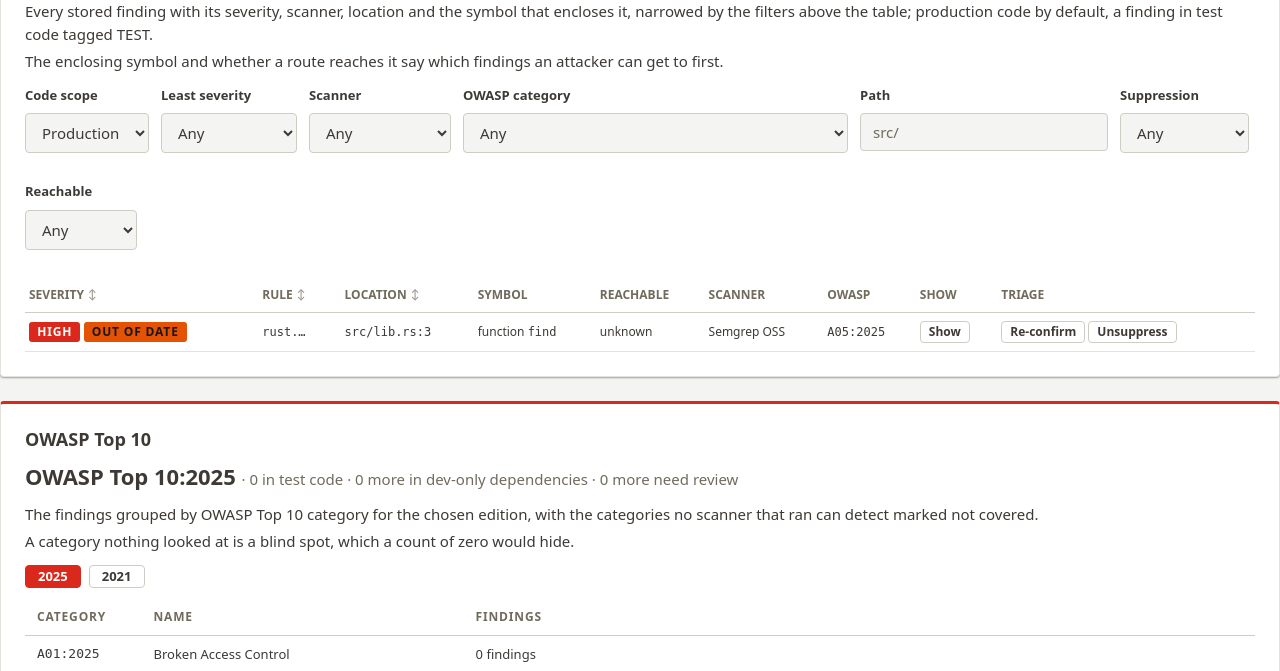
evidence (FR-SC-32, S-818) › reads an out-of-date verdict as active, naming the changed symbol, with Re-confirm beside Unsuppress
(page scrolled)
Step 1. Click the button with aria-label "Show rust.lang.security.formatted-sql" → (945, 332), box [920,321,970,343]
(page scrolled)
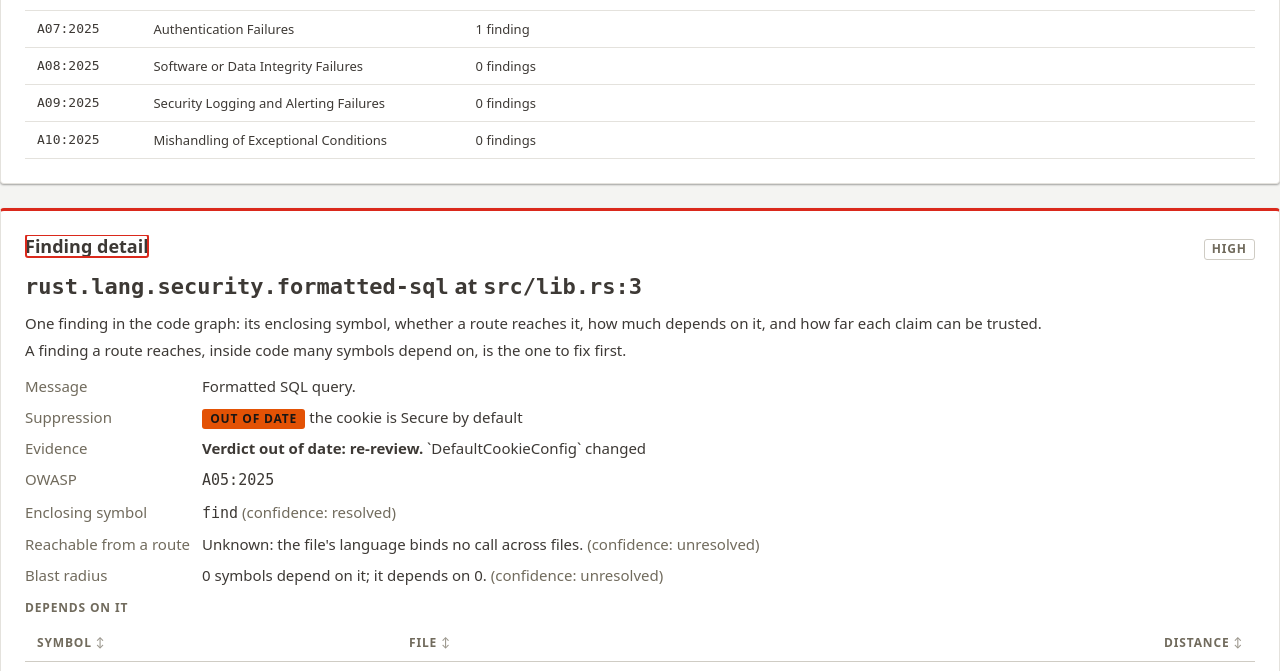
expect the text "the cookie is Secure by default" is shown: met, box [309,407,523,427]
